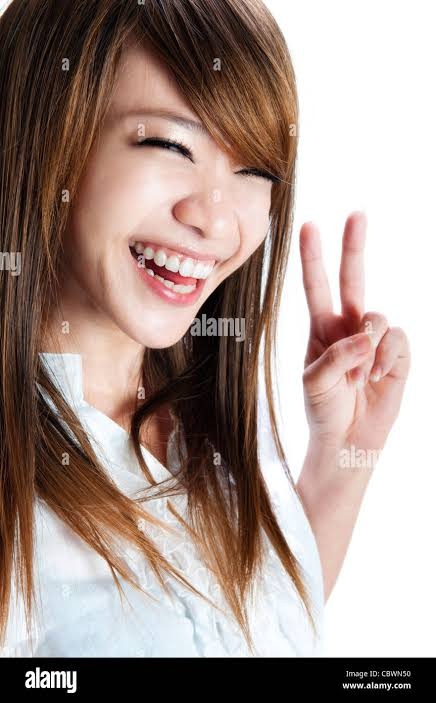peace_sign: (295, 217, 418, 437)
